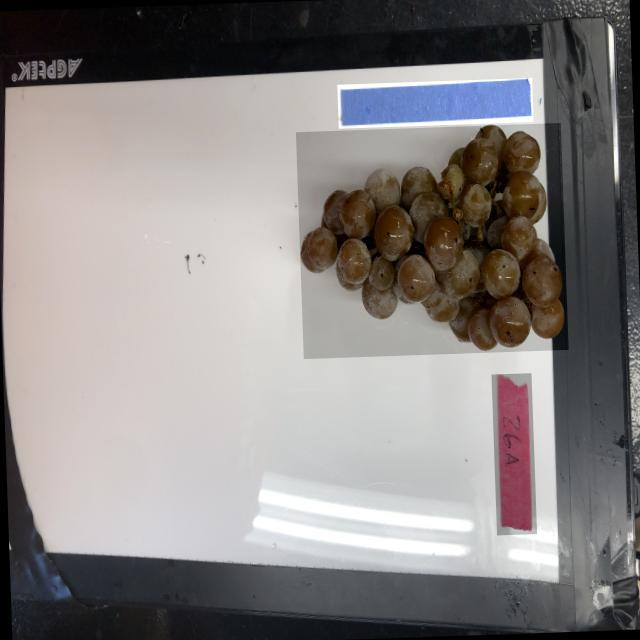grape_cluster: (294, 122, 568, 358)
index: (490, 373, 536, 535)
measure_label: (336, 78, 532, 128)
